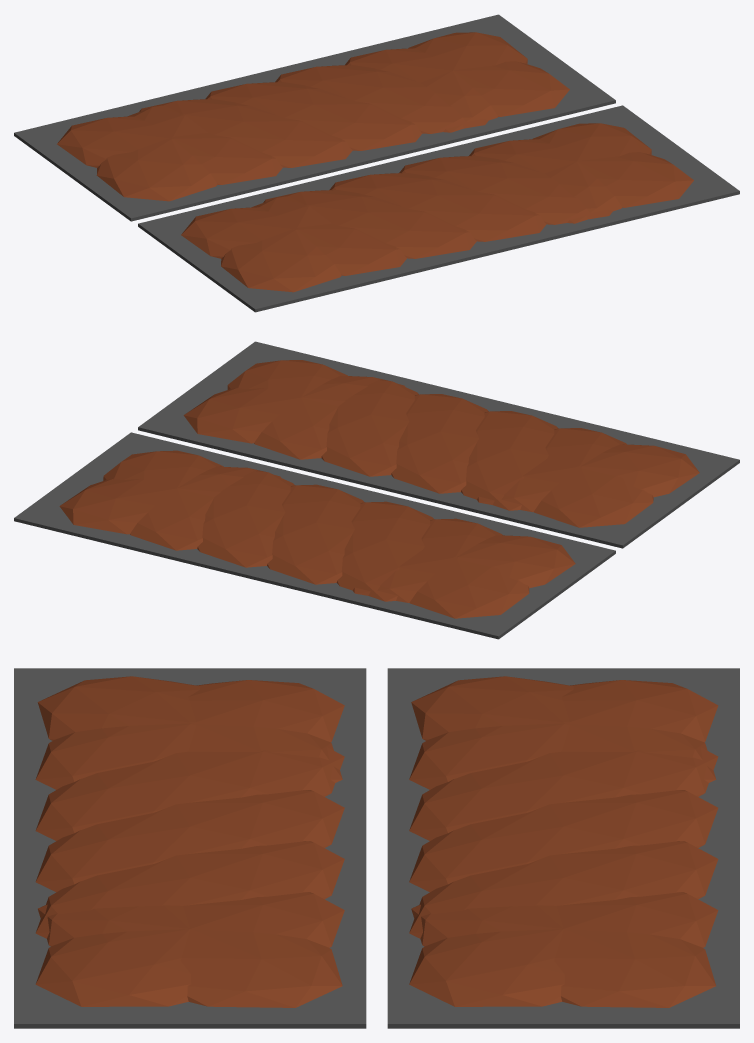
Rendered from natural_drying_beans.glb.
The picture shows the model from 3 angles, top to bottom: view 1: azimuth 30°, elevation 25°; view 2: azimuth 150°, elevation 25°; view 3: azimuth 270°, elevation 25°; orthographic projection. The views are drawn at different scales.
Visible parts, largest first — view 1: Plane; view 2: Plane; view 3: Plane.
Boxes of the visible parts, box(x1,y1,x2,y2) form: Plane: box(14, 14, 739, 312); Plane: box(14, 341, 739, 639); Plane: box(14, 668, 739, 1028).
Size of the model in its own units: 6 by 0.1818 by 5.17.
